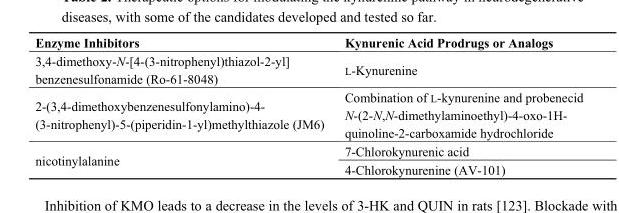table: (34, 34, 582, 176)
table column: (34, 34, 333, 176), (333, 34, 582, 176)
table column header: (34, 34, 582, 51)
table row: (34, 87, 582, 141), (34, 51, 582, 87), (34, 141, 582, 160), (34, 34, 582, 51), (34, 160, 582, 176)
table spanning cell: (34, 141, 333, 176)
